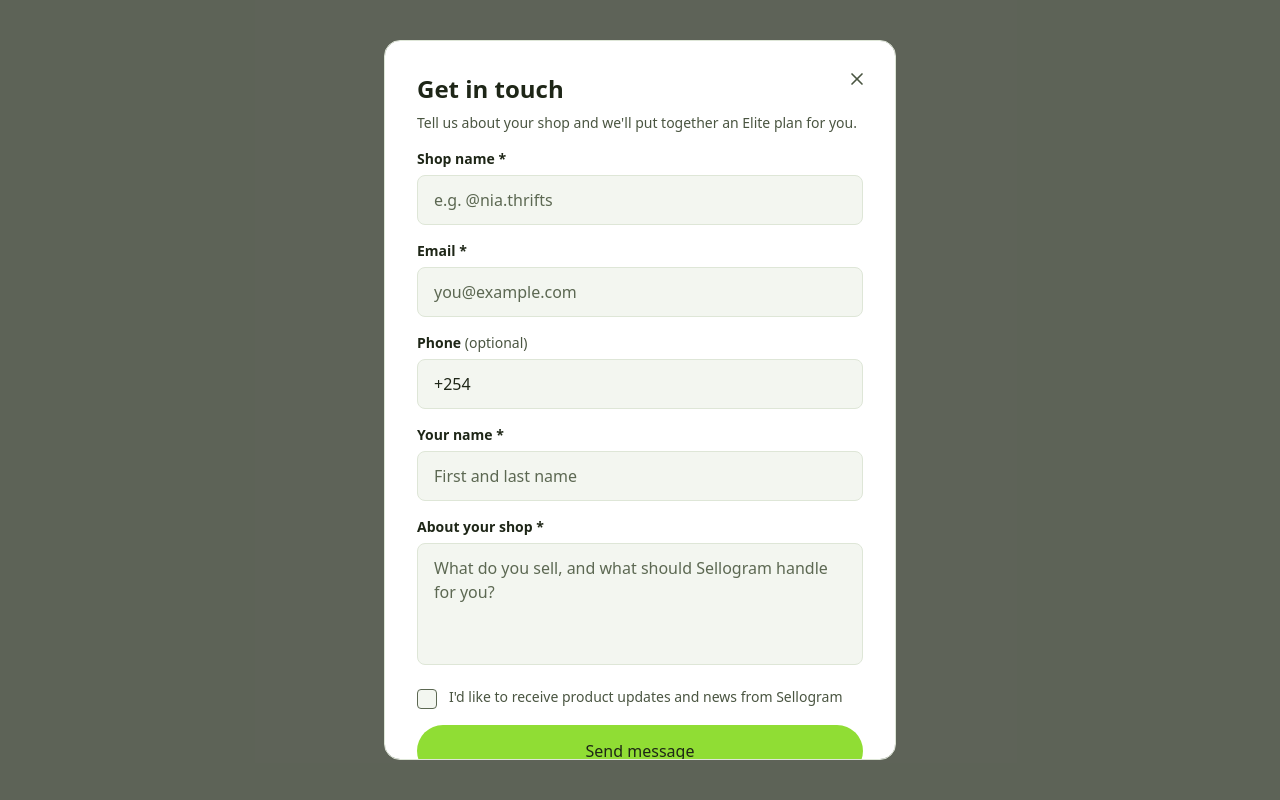
Test: EliteContactModal › does not submit when required fields are empty
Click the button "Send message". click: coordinates (640, 751)
box: x1=417 y1=725 x2=863 y2=777
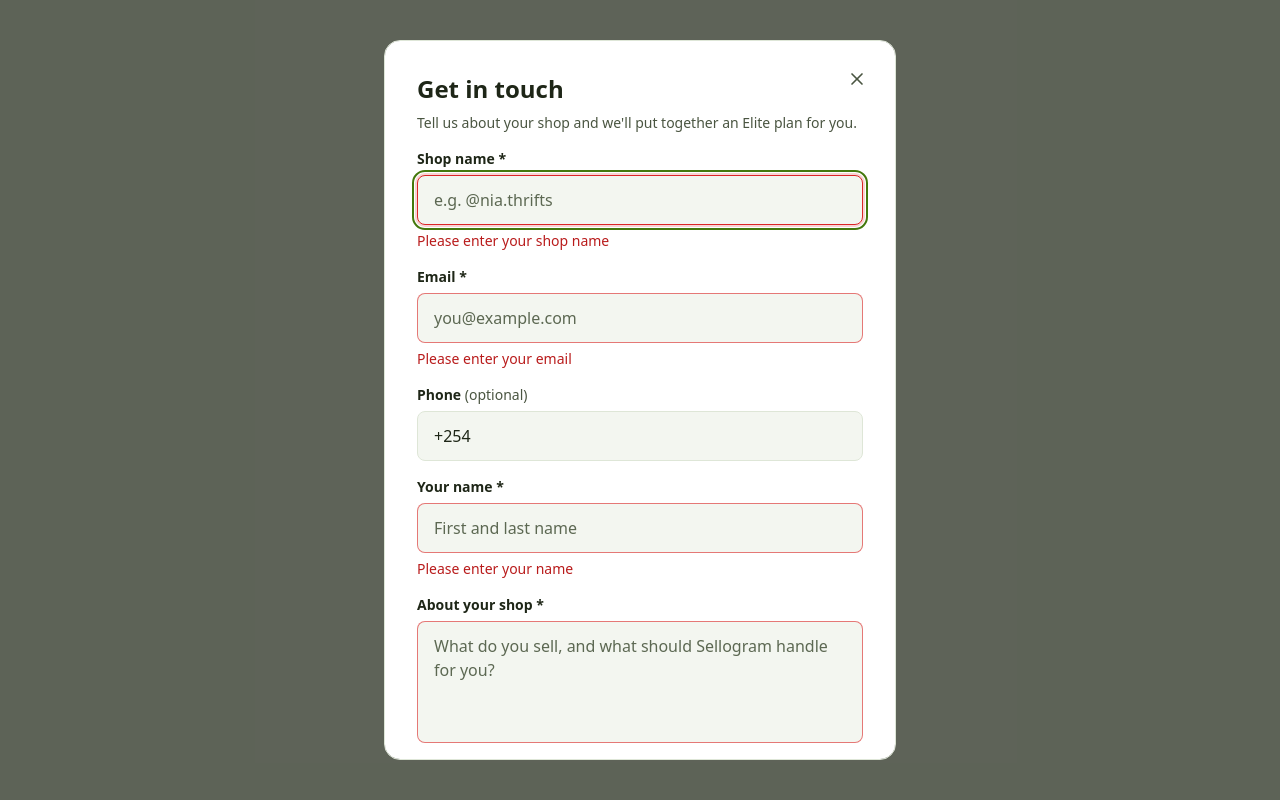
Now the text "Please enter your shop name" is shown, box x1=417 y1=231 x2=609 y2=250
